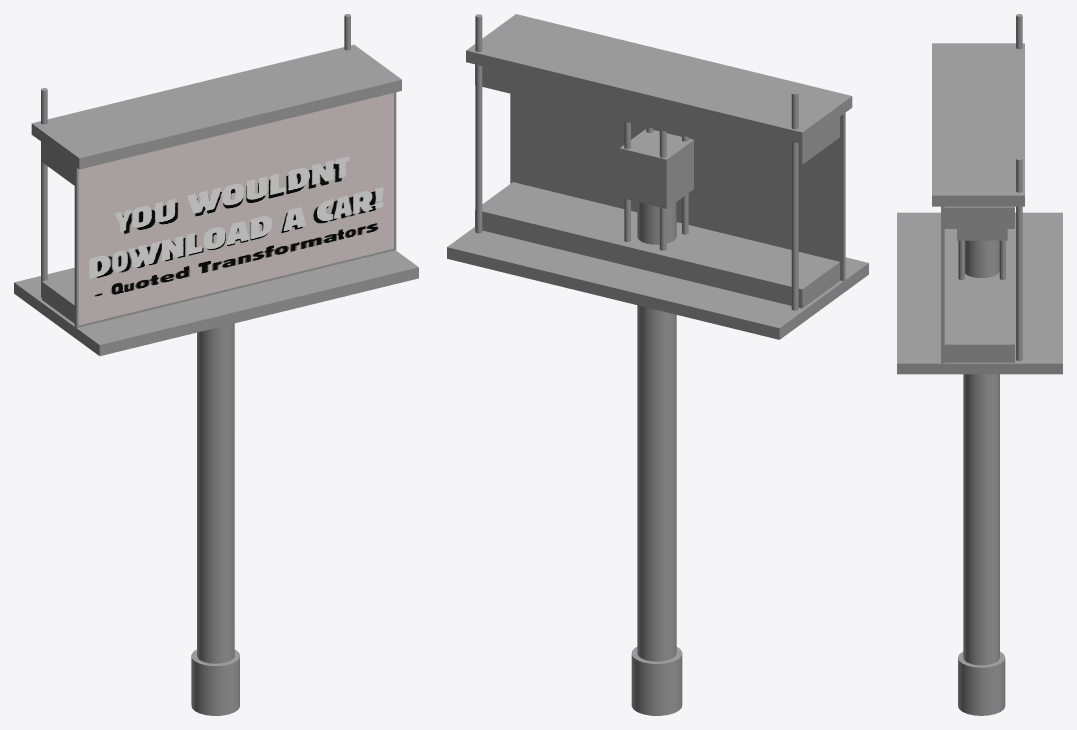
The model's file is Dont_Game_AND_Drive_BillBoard (1).fbx.
3 renders of one model, left to right at view 1: azimuth 30°, elevation 25°; view 2: azimuth 150°, elevation 25°; view 3: azimuth 270°, elevation 25°, orthographic. The views are drawn at different scales.
Visible parts, largest first — view 1: pPlane1, polySurface29, polySurface13, polySurface21, polySurface27, polySurface25, polySurface19, polySurface23; view 2: polySurface27, polySurface29, polySurface13, polySurface25, polySurface21, polySurface23, polySurface17, polySurface19, polySurface15; view 3: polySurface21, polySurface29, polySurface13, polySurface25, polySurface23, polySurface15, polySurface27, polySurface17.
Boxes of the visible parts, <box> form: pPlane1: <box>78,93,394,327</box>; polySurface29: <box>31,44,401,169</box>; polySurface13: <box>191,323,239,715</box>; polySurface21: <box>14,250,418,355</box>; polySurface27: <box>74,92,396,327</box>; polySurface25: <box>42,273,74,323</box>; polySurface19: <box>41,88,47,297</box>; polySurface23: <box>42,142,74,185</box>; polySurface27: <box>510,93,845,281</box>; polySurface29: <box>466,14,852,143</box>; polySurface13: <box>631,202,682,715</box>; polySurface25: <box>475,182,840,308</box>; polySurface21: <box>447,227,868,339</box>; polySurface23: <box>475,64,839,164</box>; polySurface17: <box>619,129,693,208</box>; polySurface19: <box>791,91,798,310</box>; polySurface15: <box>475,14,482,233</box>; polySurface21: <box>897,212,1062,374</box>; polySurface29: <box>932,43,1024,206</box>; polySurface13: <box>958,240,1005,715</box>; polySurface25: <box>944,229,1014,362</box>; polySurface23: <box>944,206,1014,228</box>; polySurface15: <box>1016,157,1022,360</box>; polySurface27: <box>941,206,944,363</box>; polySurface17: <box>957,229,1007,240</box>.
Size of the model in its own units: 135 by 255 by 62.02.
